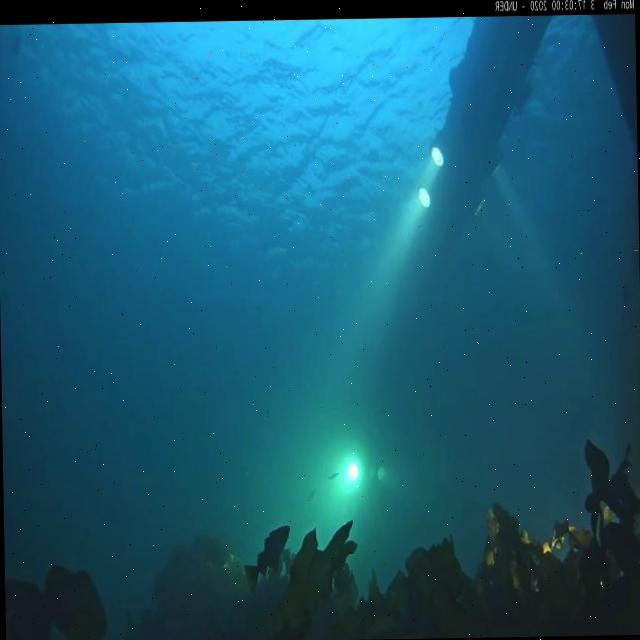fish: (242, 524, 290, 590)
